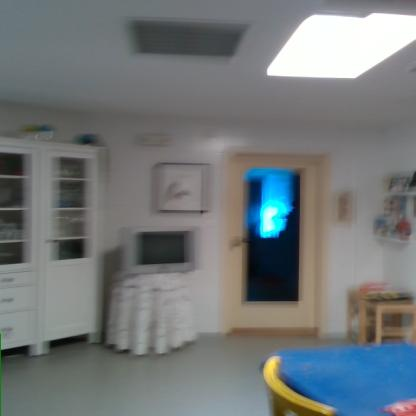closed: (223, 148, 332, 343)
